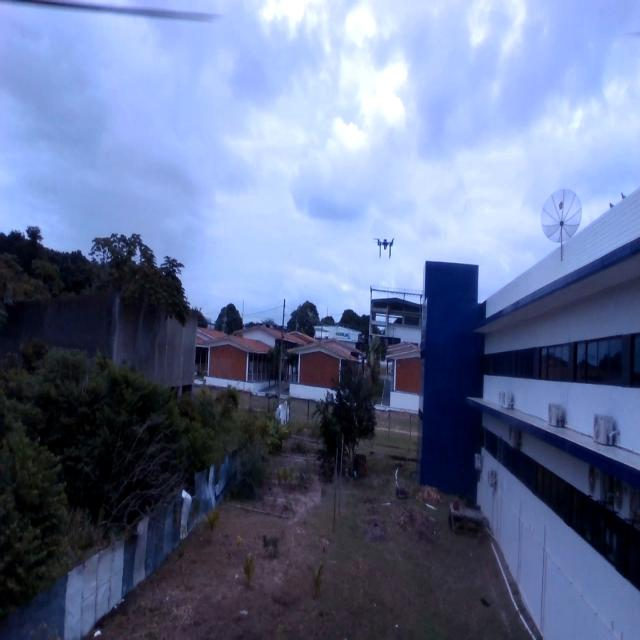-uav-: (368, 228, 404, 268)
